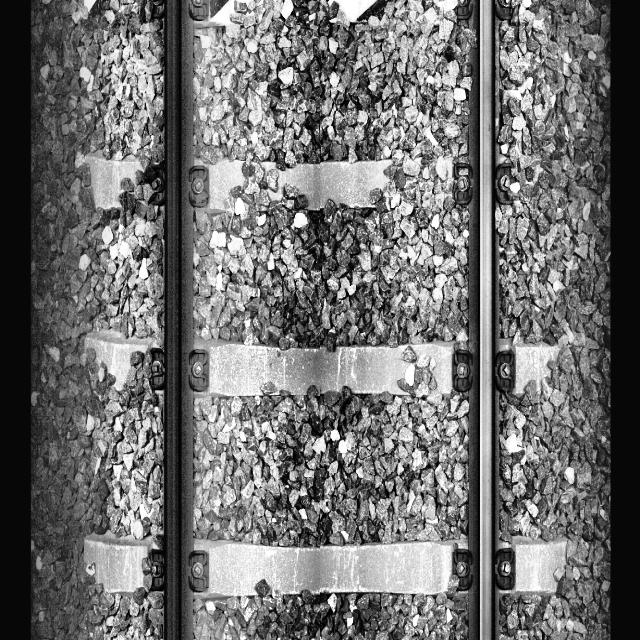Clips: (141, 162, 167, 207), (185, 349, 210, 393), (184, 164, 209, 207), (186, 549, 209, 594), (452, 163, 474, 206), (451, 349, 473, 391), (450, 550, 474, 588), (146, 346, 166, 389), (496, 351, 513, 394), (495, 548, 513, 588), (150, 547, 164, 587)
Sleepers: (81, 326, 565, 410), (83, 530, 569, 601), (82, 146, 498, 225)
